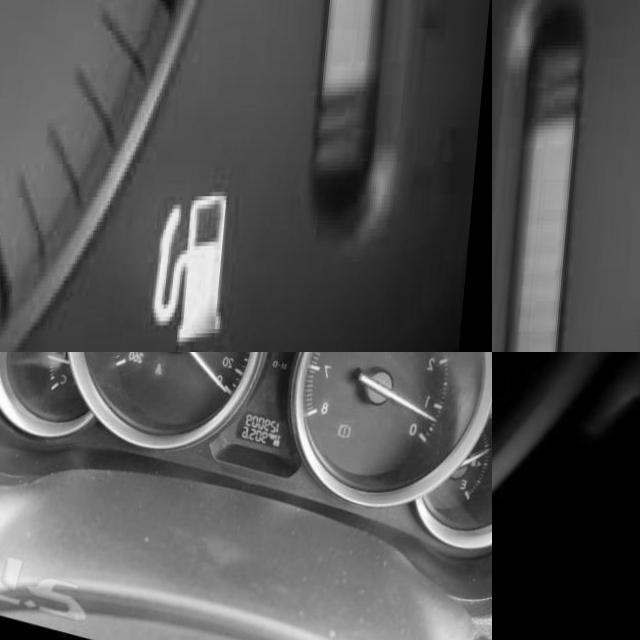Seat Belt: (159, 361, 171, 378)
